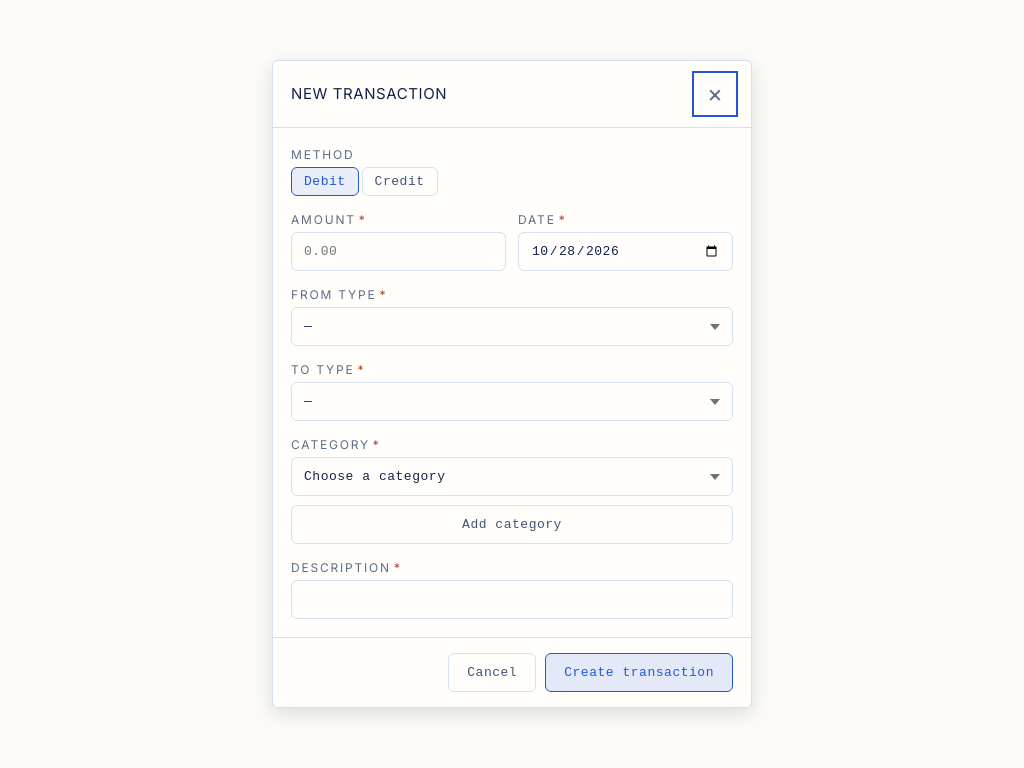
Test: TransactionForm › should require a category for debit creation
Type "12.34" into the field named "Amount".
click(398, 252); type("12.34")  # box [291,232,506,271]
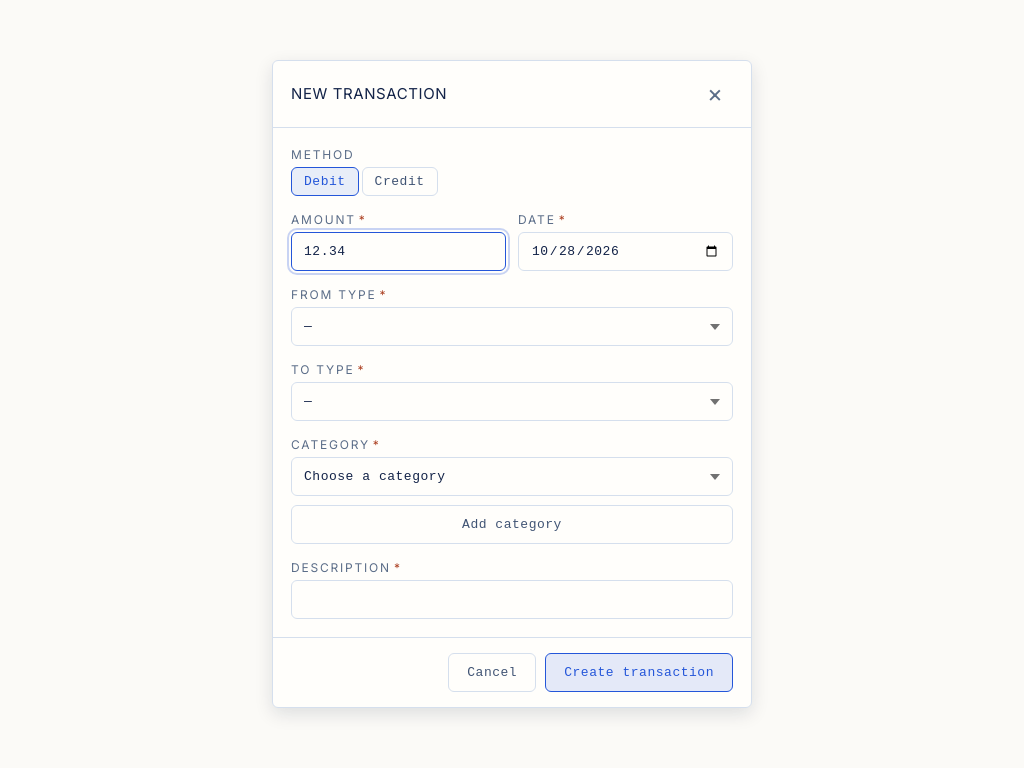
Type "Lunch" into the field named "Description".
click(512, 600); type("Lunch")  # box [291,580,733,619]
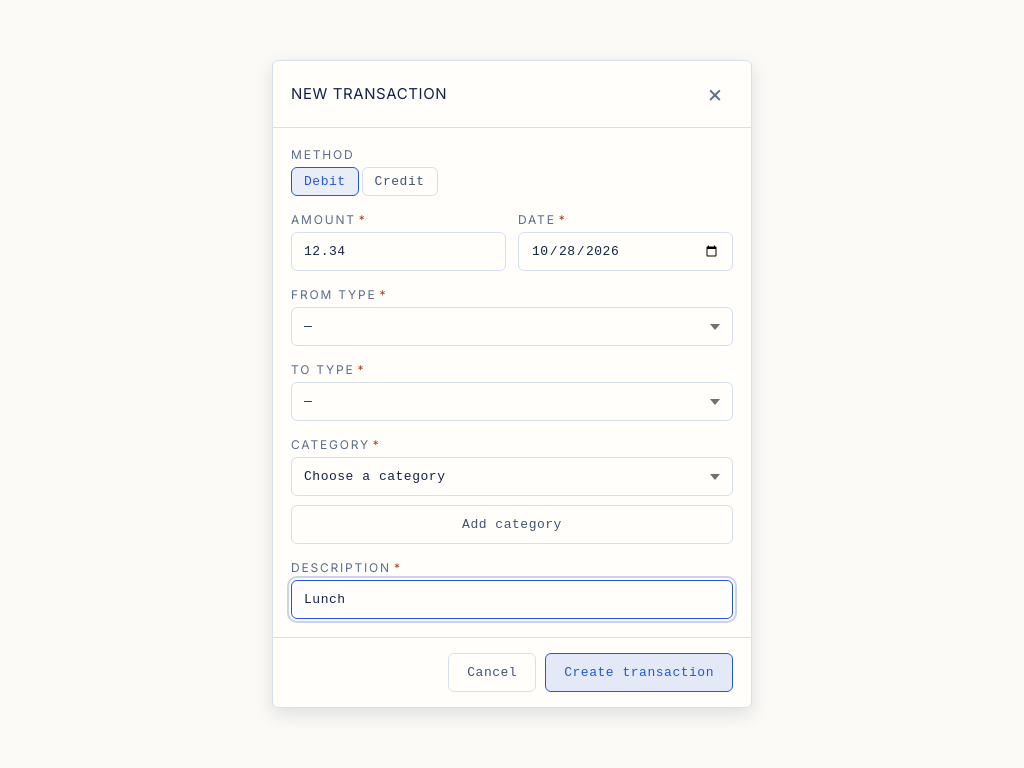
Click the button "Create transaction".
click(639, 672)  # box [545,653,733,692]
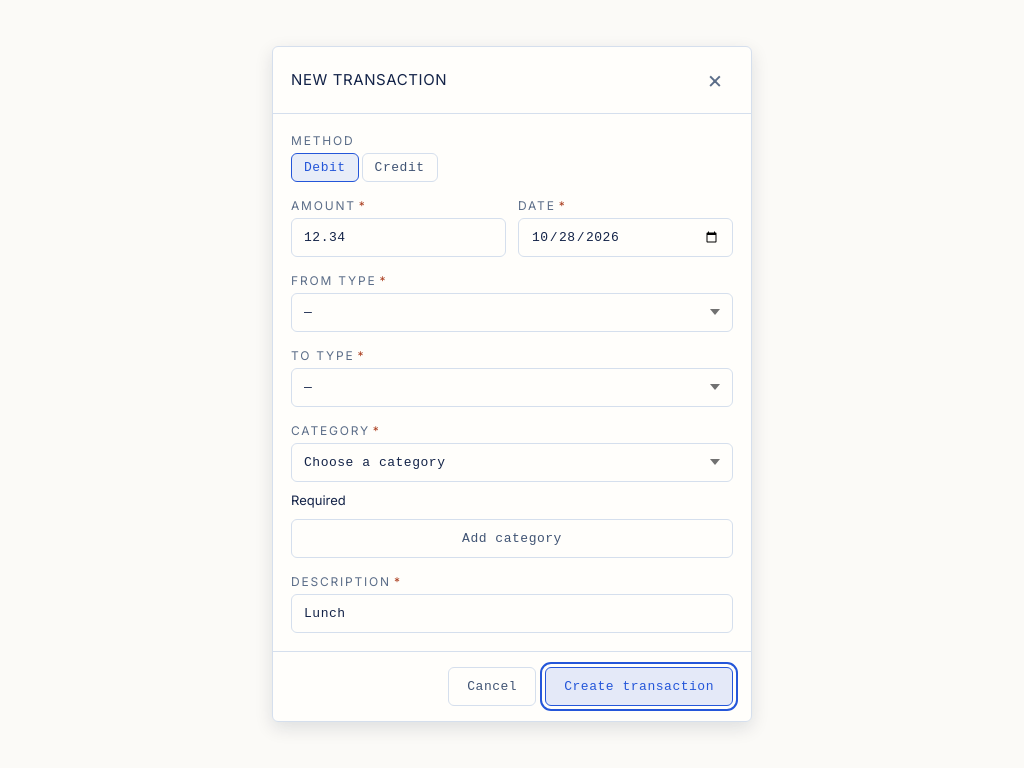
Now the message "Required" is shown, box [291,492,346,508]
